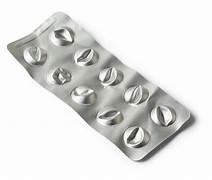pill_Strip: (8, 12, 189, 160), (123, 126, 149, 147), (151, 105, 175, 126), (71, 86, 96, 105), (124, 85, 148, 104), (97, 107, 122, 125), (49, 27, 73, 45), (99, 67, 122, 85), (23, 46, 46, 64), (74, 48, 97, 65), (48, 67, 71, 84)
